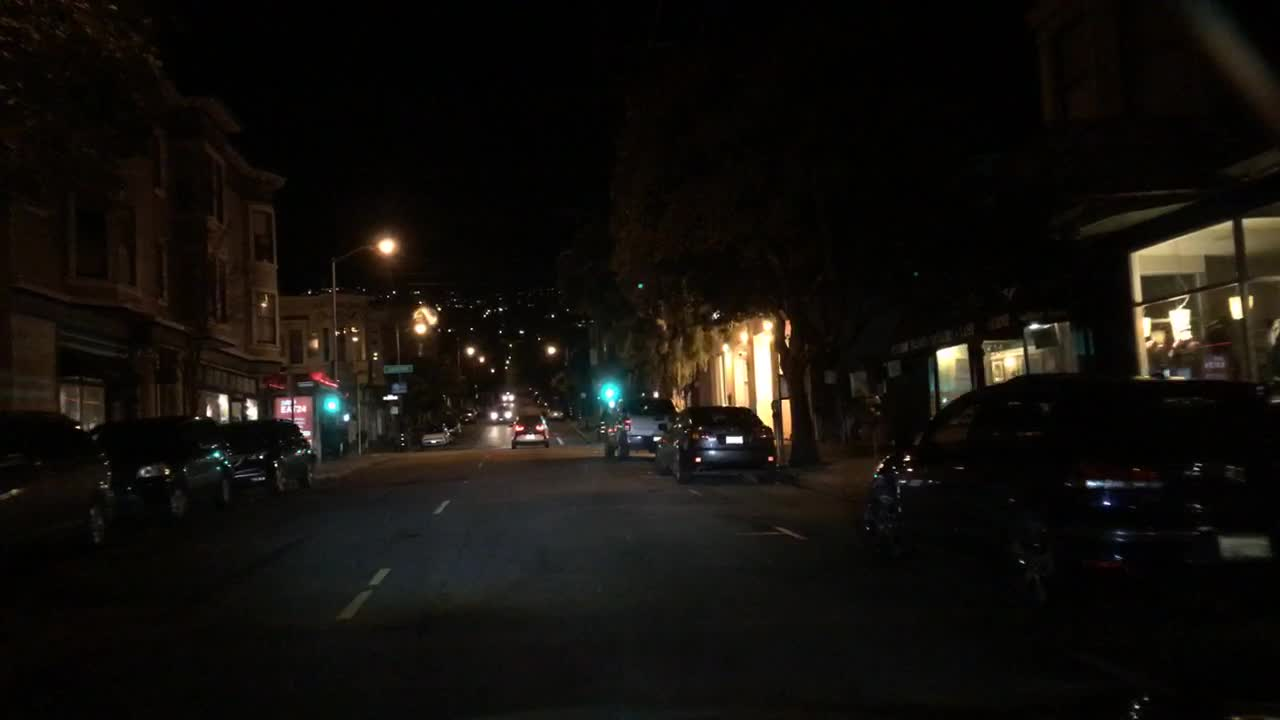car: (855, 367, 1277, 584), (0, 402, 122, 560), (87, 410, 240, 527), (650, 402, 781, 486), (219, 416, 320, 498), (600, 393, 681, 460), (506, 412, 552, 449), (418, 423, 451, 449), (488, 400, 517, 426), (442, 413, 468, 436), (457, 404, 482, 424), (544, 404, 567, 420), (499, 389, 520, 403), (535, 394, 551, 410), (529, 387, 543, 400)
traffic light: (601, 383, 616, 400), (322, 397, 338, 412)
traffic sign: (384, 362, 414, 374)
